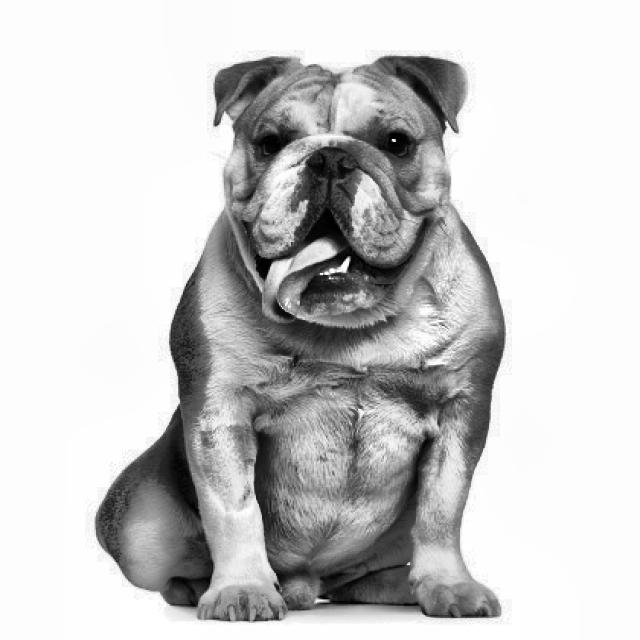bulldog: (193, 31, 490, 352)
